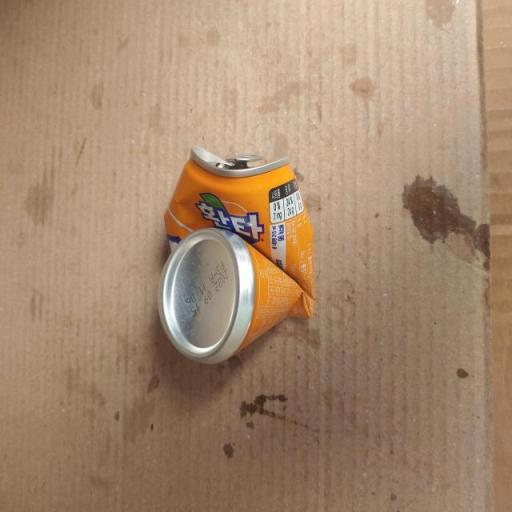metal: (140, 126, 320, 382)
